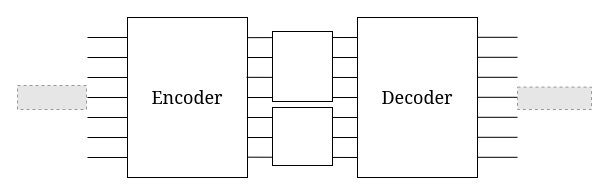
Some shapes in this 609 by 195 pixel diagram are drawn without their labels. Grey dashed boxes stand in for pictures. Here are the shapes that lost their labels. From the top down, the box of each, then its label:
(272, 30, 332, 102): Free Qubits
(272, 106, 332, 166): Latent Qubits
